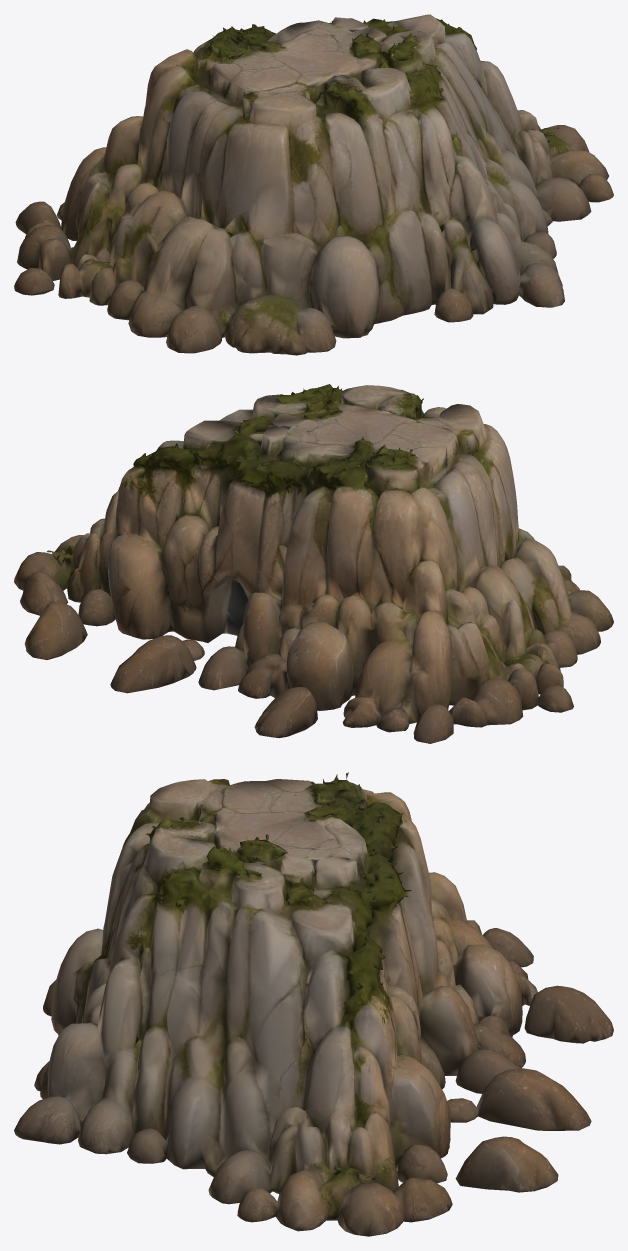
Rendered from cliff_lo.glb.
The picture shows the model from 3 angles, top to bottom: view 1: azimuth 30°, elevation 25°; view 2: azimuth 150°, elevation 25°; view 3: azimuth 270°, elevation 25°; orthographic projection. The views are drawn at different scales.
Visible parts, largest first — view 1: tripo_node_22485a8e-7f74-45aa-8110-8c3fb36bd0d9; view 2: tripo_node_22485a8e-7f74-45aa-8110-8c3fb36bd0d9; view 3: tripo_node_22485a8e-7f74-45aa-8110-8c3fb36bd0d9.
Part boxes in pixels (bbox=[...]): tripo_node_22485a8e-7f74-45aa-8110-8c3fb36bd0d9: bbox=[14, 14, 613, 355]; tripo_node_22485a8e-7f74-45aa-8110-8c3fb36bd0d9: bbox=[14, 384, 613, 743]; tripo_node_22485a8e-7f74-45aa-8110-8c3fb36bd0d9: bbox=[14, 772, 613, 1236].
Bounding box in the file's own units: 0.9996 × 0.3684 × 0.7849.
Materials: 1 (1 with a texture image).
